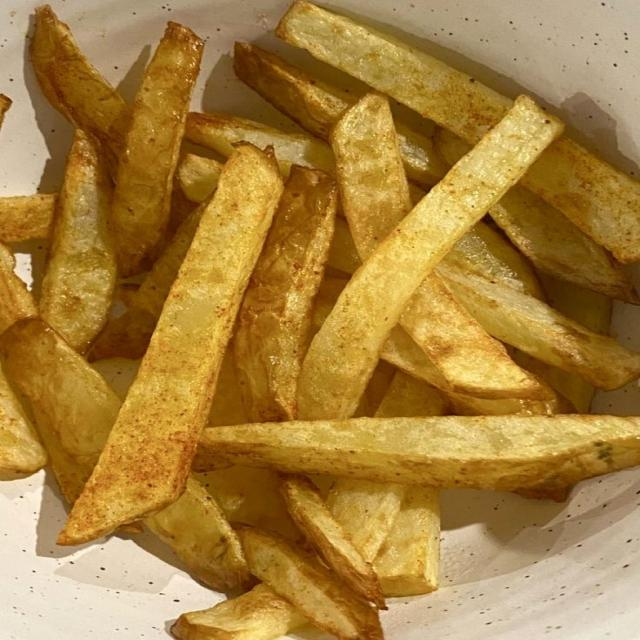potato fries: (59, 145, 282, 544), (299, 97, 562, 419), (276, 0, 512, 143), (195, 415, 639, 490), (234, 166, 337, 421), (111, 23, 203, 275), (447, 270, 639, 389), (2, 319, 120, 504), (90, 204, 206, 360), (0, 319, 120, 465), (490, 186, 638, 303), (40, 130, 117, 352), (30, 6, 131, 173), (380, 327, 573, 414), (239, 528, 382, 639), (281, 475, 386, 608), (234, 43, 357, 140), (145, 477, 249, 590), (185, 113, 333, 176), (445, 222, 544, 298), (198, 466, 299, 540), (172, 584, 307, 639), (374, 487, 439, 596), (327, 478, 406, 561), (0, 370, 46, 480), (542, 275, 612, 334), (0, 244, 37, 332), (0, 194, 56, 242), (177, 154, 222, 202), (0, 94, 12, 126)
